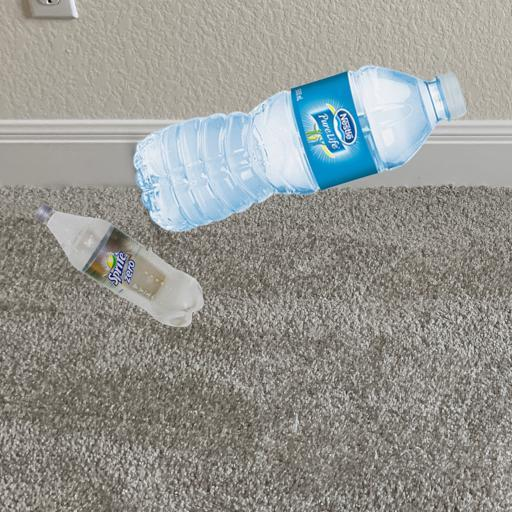bottle: (124, 61, 470, 234), (33, 200, 207, 334)
